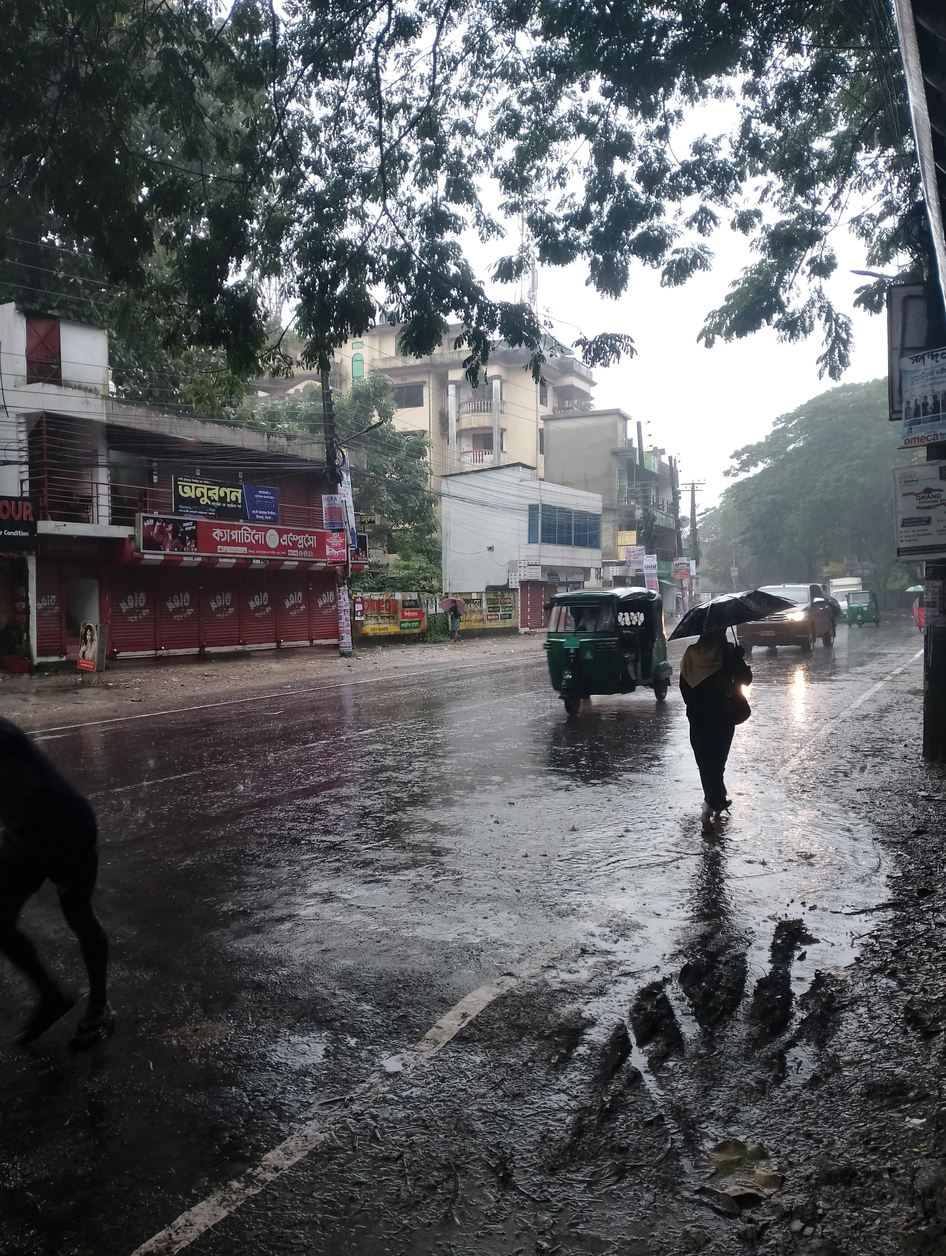Car: (725, 574, 847, 662)
